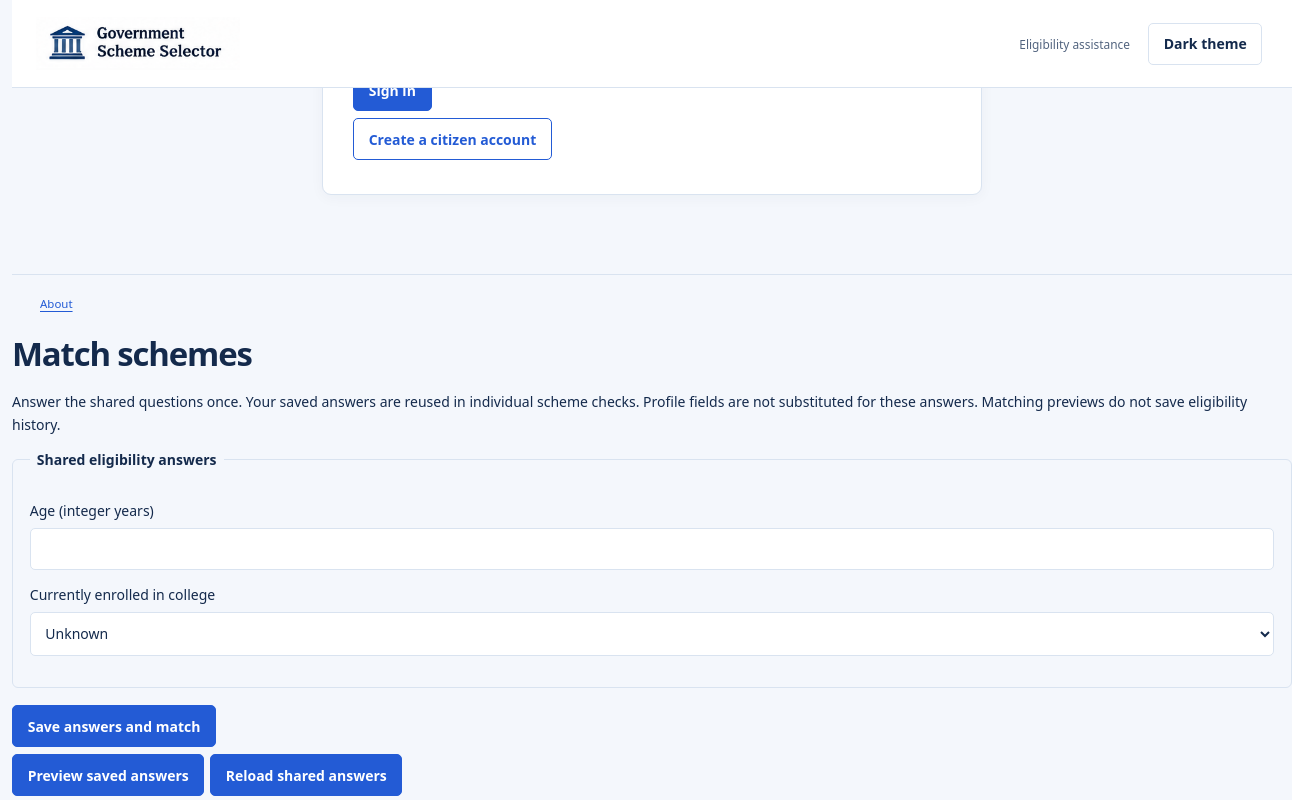
Test case: saves exact strings once, previews the returned revision and clears obsolete results on edit
(page scrolled)
Type "25" into the number field labelled "Age (integer years)" at (652, 549), box 30,528 -> 1274,570
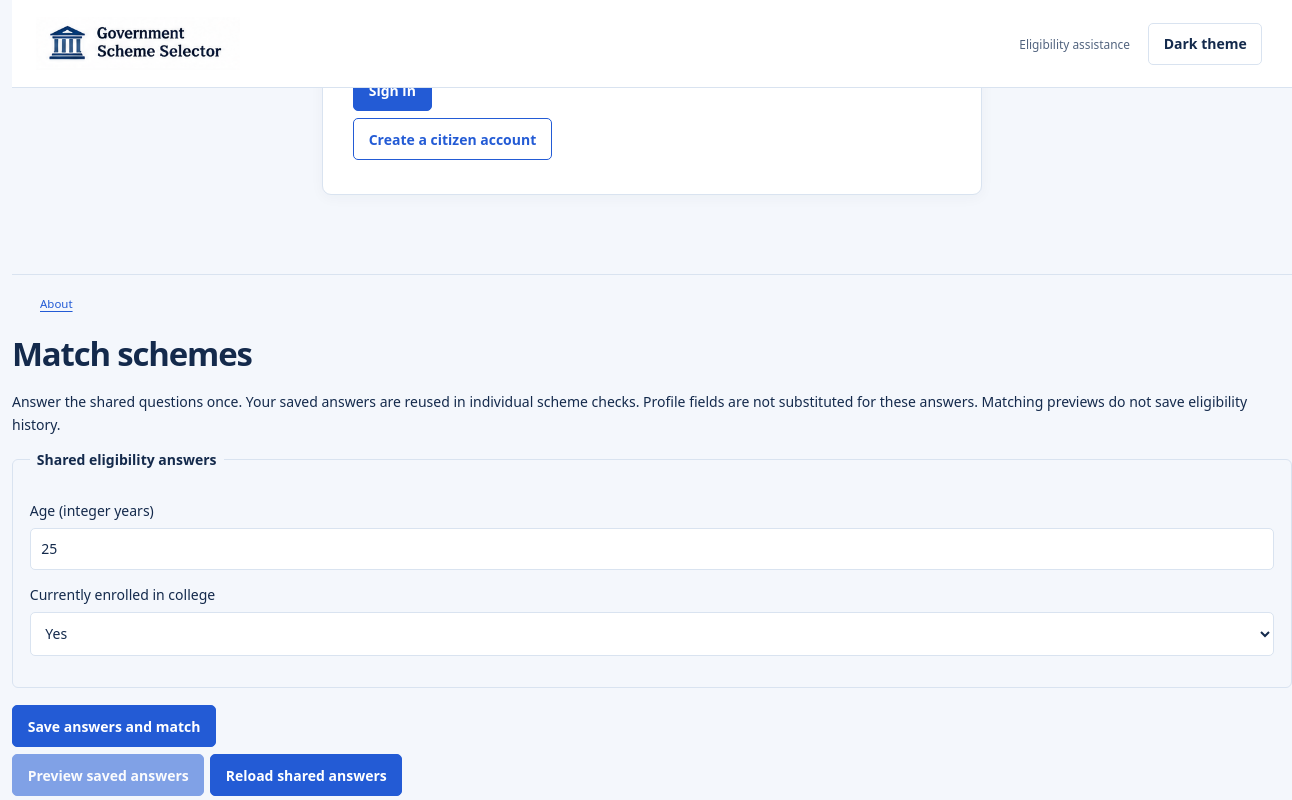
expect the button "Preview saved answers" is disabled: met, box 12,754 -> 204,796
Click the button "Save answers and match" at (114, 726), box 12,705 -> 216,747
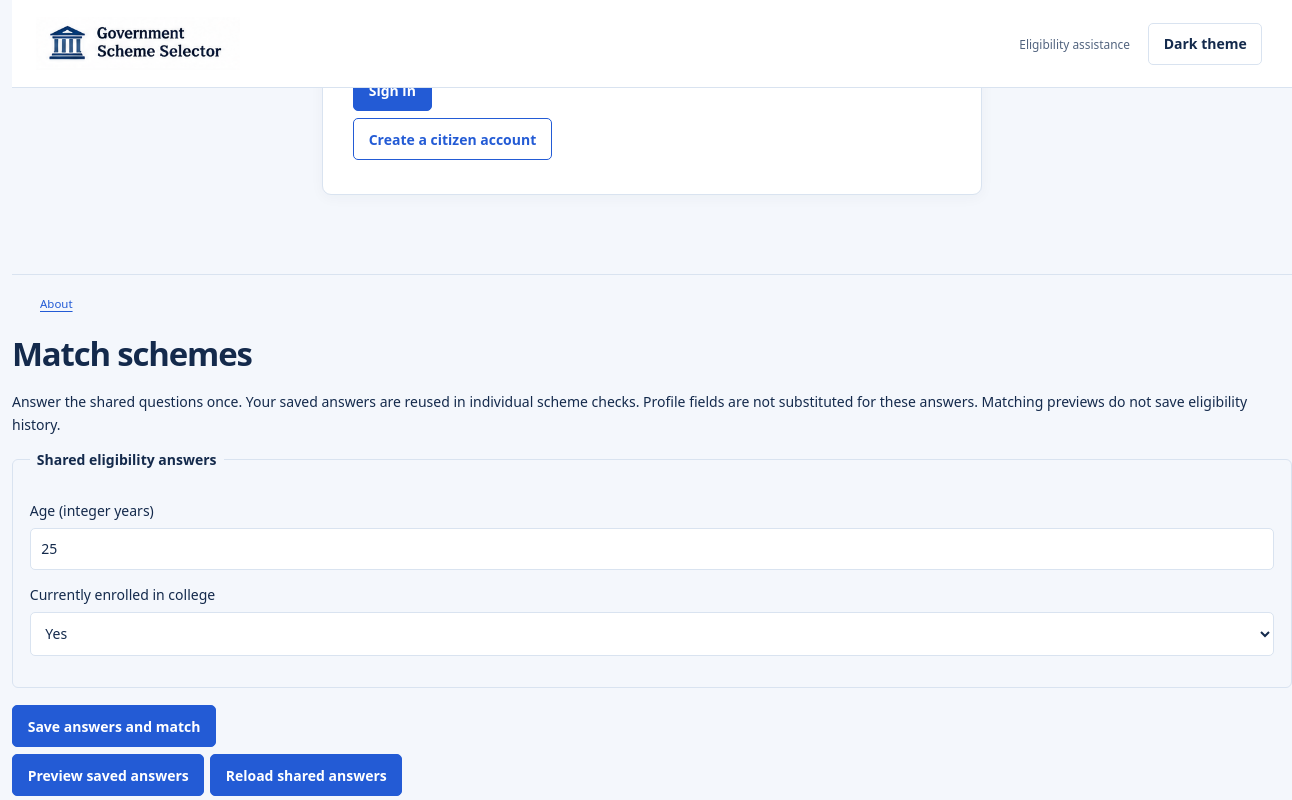
Clear the number field labelled "Age (integer years)" at (652, 549), box 30,528 -> 1274,570
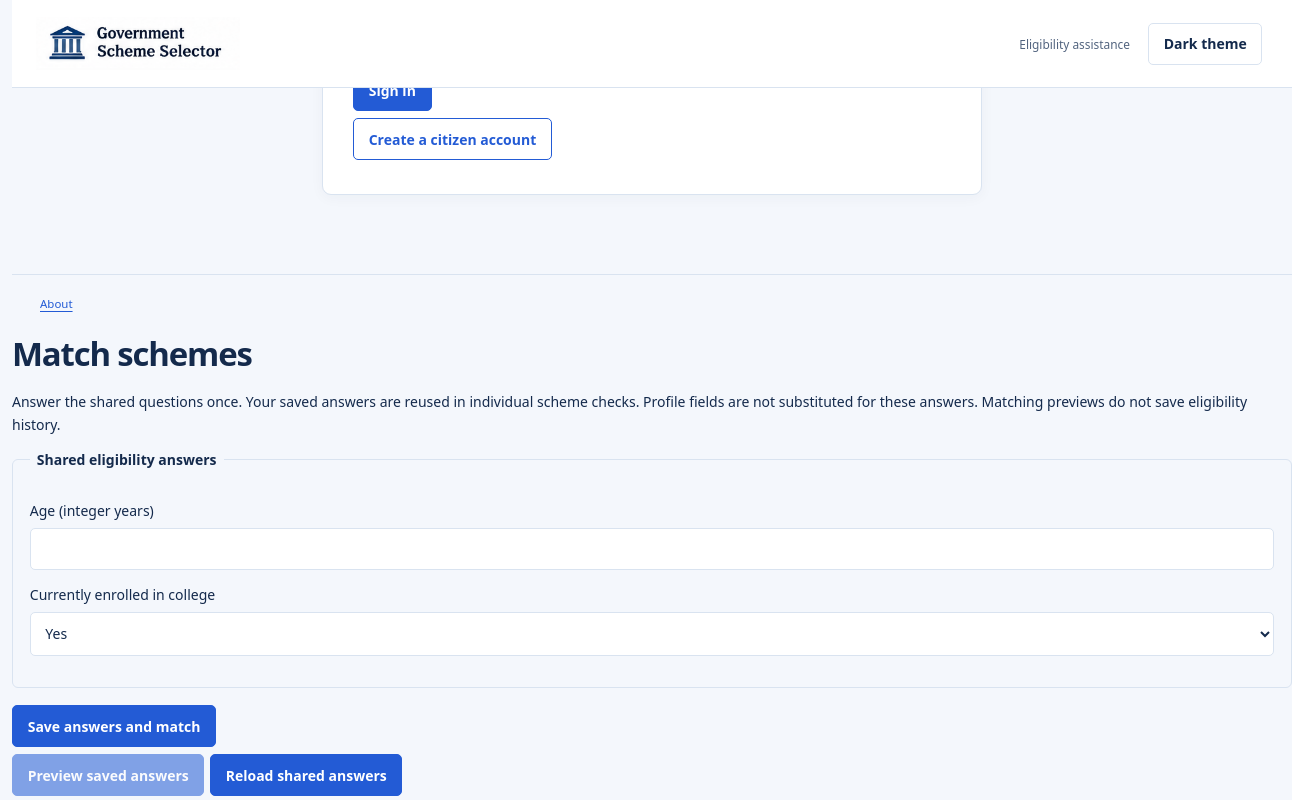
expect the button "Preview saved answers" is disabled: met, box 12,754 -> 204,796
